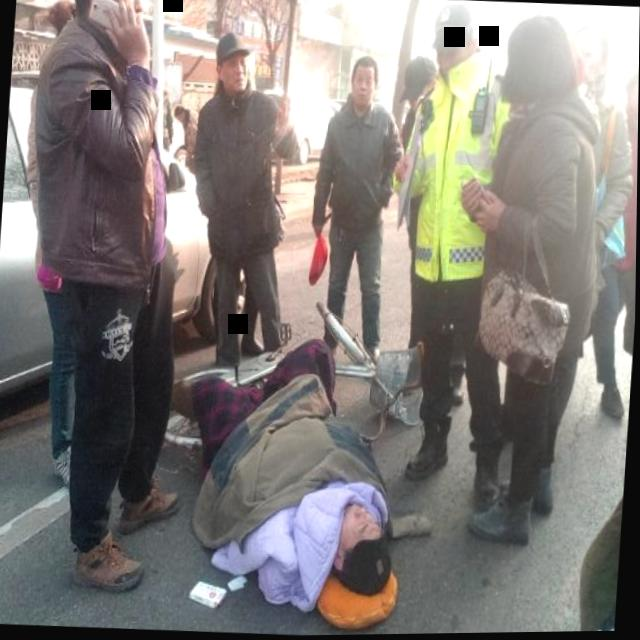Fall-Detected: (136, 312, 442, 638)
